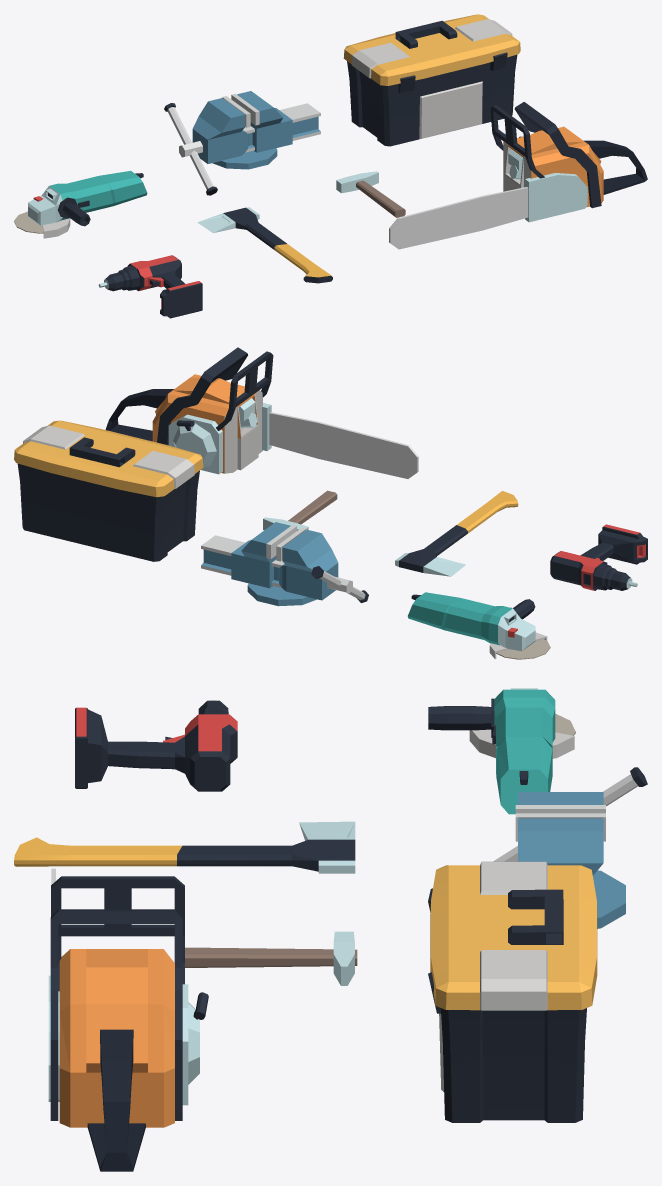
Rendered from instryment.fbx.
The picture shows the model from 3 angles, top to bottom: view 1: azimuth 30°, elevation 25°; view 2: azimuth 150°, elevation 25°; view 3: azimuth 270°, elevation 25°; orthographic projection. The views are drawn at different scales.
Parts seen in each view (by area): view 1: Box002, Box008, Box005, Box006, Box007, Box001, Box004; view 2: Box002, Box008, Box005, Box006, Box007, Box001, Box004; view 3: Box002, Box008, Box006, Box001, Box005, Box007, Box004.
Part boxes in pixels (<box>): Box002: <box>343,14,520,146</box>; Box008: <box>389,102,647,249</box>; Box005: <box>164,91,320,195</box>; Box006: <box>14,170,147,238</box>; Box007: <box>98,255,202,318</box>; Box001: <box>197,207,332,283</box>; Box004: <box>336,171,405,217</box>; Box002: <box>14,420,203,561</box>; Box008: <box>105,347,418,478</box>; Box005: <box>201,522,368,606</box>; Box006: <box>407,592,550,659</box>; Box007: <box>550,524,647,590</box>; Box001: <box>395,491,518,576</box>; Box004: <box>263,490,337,530</box>; Box002: <box>428,861,597,1122</box>; Box008: <box>48,868,208,1171</box>; Box006: <box>428,688,575,814</box>; Box001: <box>14,821,355,873</box>; Box005: <box>493,767,647,928</box>; Box007: <box>75,700,237,791</box>; Box004: <box>185,931,357,985</box>.
Size of the model in its own units: 334 by 66.65 by 189.
1 material, 1 textured.
